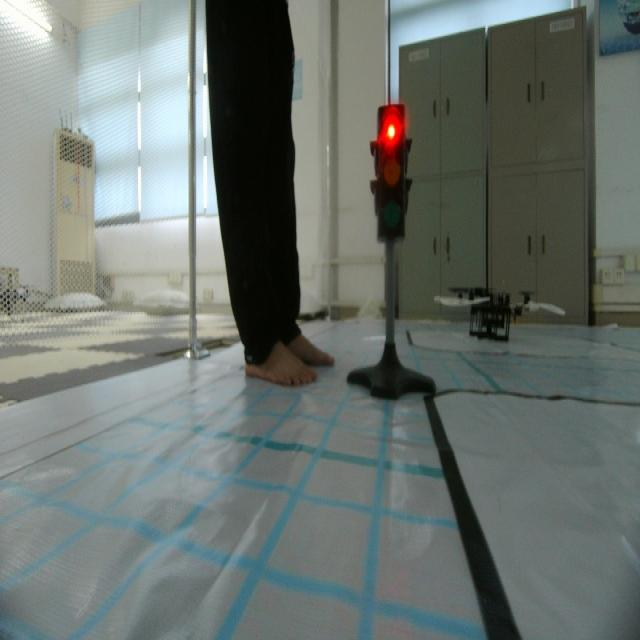red: (369, 95, 411, 248)
